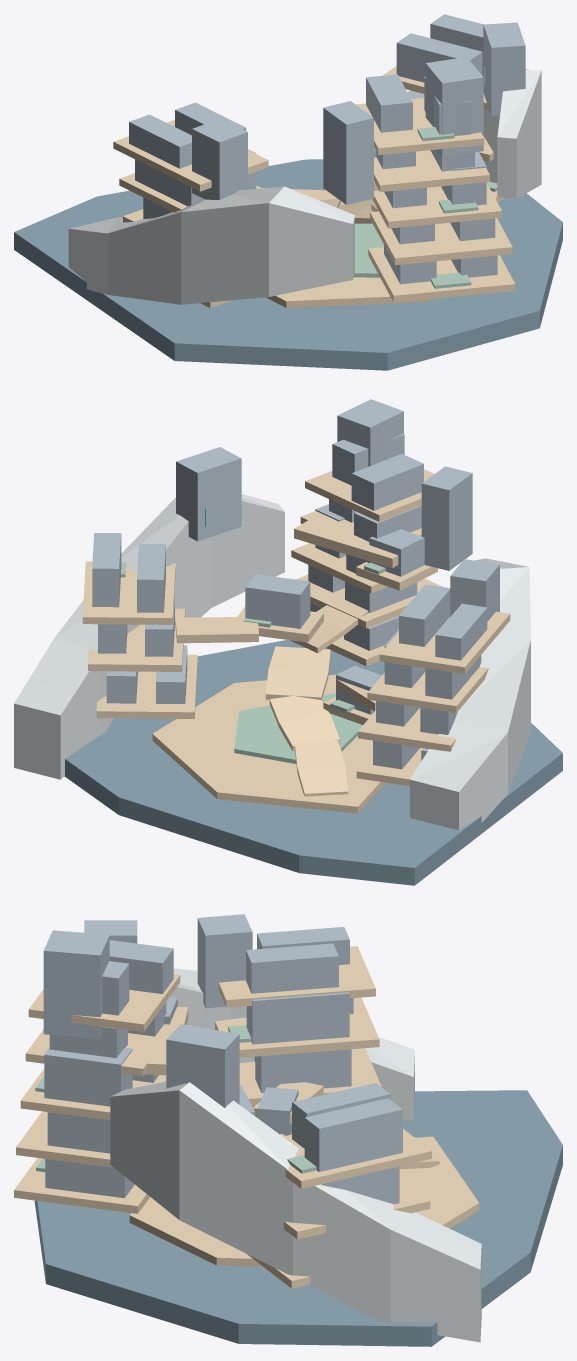
File: a29_civic_strata.glb
3 renders of one model, top to bottom at view 1: azimuth 30°, elevation 25°; view 2: azimuth 150°, elevation 25°; view 3: azimuth 270°, elevation 25°, orthographic. The views are drawn at different scales.
Parts seen in each view (by area): view 1: CIVIC STRATA / OPEN INHABITED DELTA; view 2: CIVIC STRATA / OPEN INHABITED DELTA; view 3: CIVIC STRATA / OPEN INHABITED DELTA.
Boxes of the visible parts, bbox=[...] form: CIVIC STRATA / OPEN INHABITED DELTA: bbox=[14, 14, 562, 370]; CIVIC STRATA / OPEN INHABITED DELTA: bbox=[14, 399, 562, 885]; CIVIC STRATA / OPEN INHABITED DELTA: bbox=[14, 914, 562, 1346].
Bounding box in the file's own units: 328 × 195 × 322.
